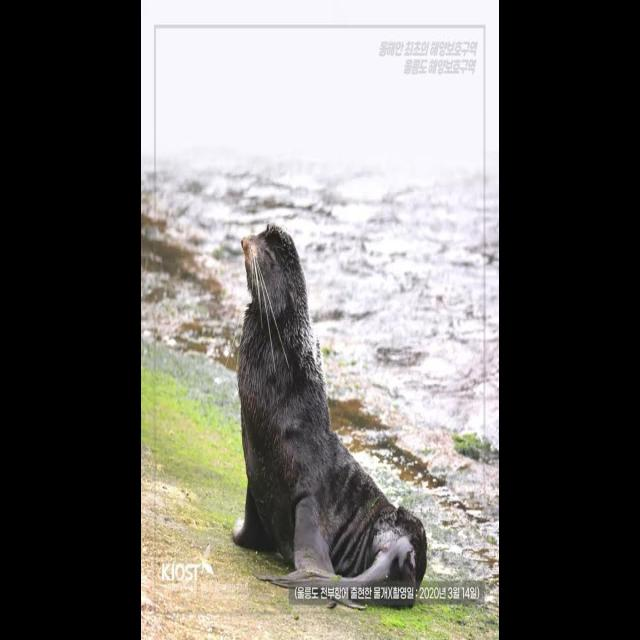WaterDog: (230, 214, 428, 614)
